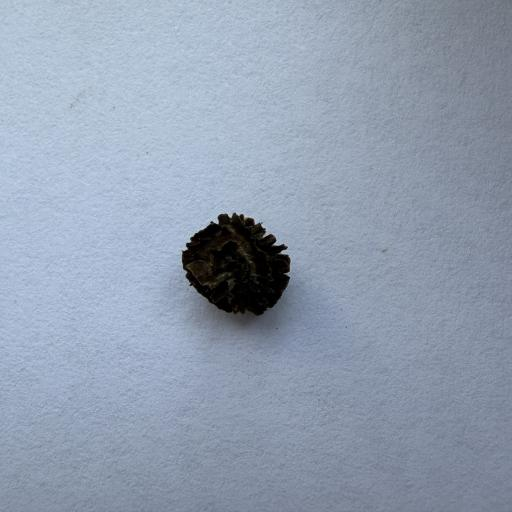papaya_seed: (178, 198, 311, 333)
